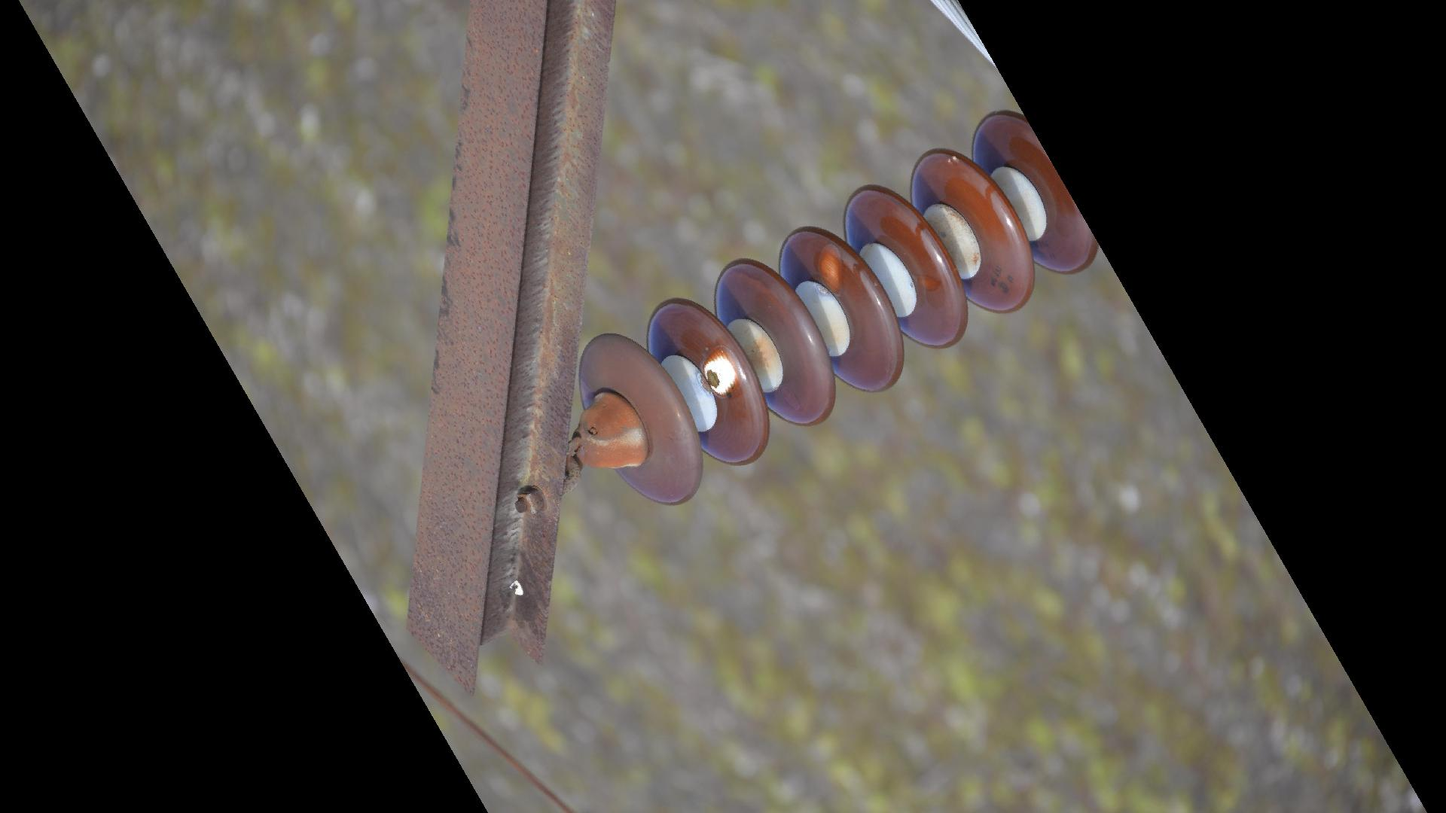insulator: (575, 104, 1105, 512)
insulator_flashover: (702, 346, 741, 397), (813, 239, 846, 297)
